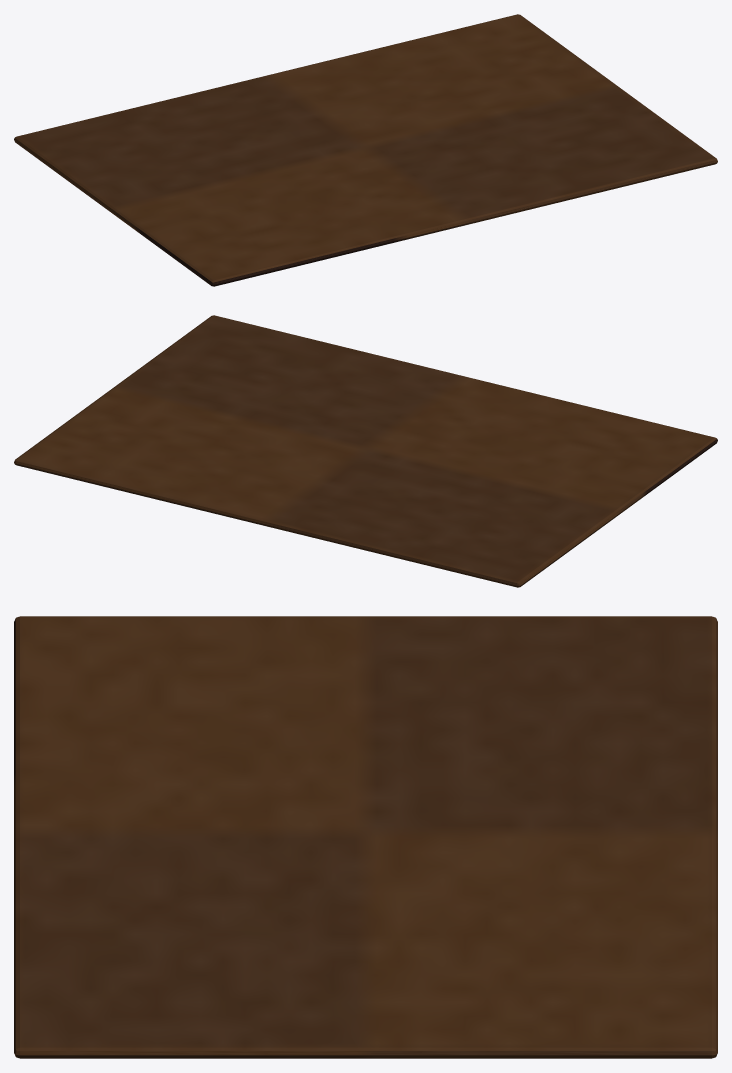
Rendered from worn-area-rug.glb.
3 renders of one model, top to bottom at view 1: azimuth 30°, elevation 25°; view 2: azimuth 150°, elevation 25°; view 3: azimuth 270°, elevation 25°, orthographic. The views are drawn at different scales.
Parts seen in each view (by area): view 1: SM_AreaRug; view 2: SM_AreaRug; view 3: SM_AreaRug.
Part boxes in pixels (<box>): SM_AreaRug: <box>14,14,717,286</box>; SM_AreaRug: <box>14,315,717,587</box>; SM_AreaRug: <box>14,616,717,1058</box>.
Size of the model in its own units: 3.15 by 0.036 by 2.15.
1 material, 1 textured.
